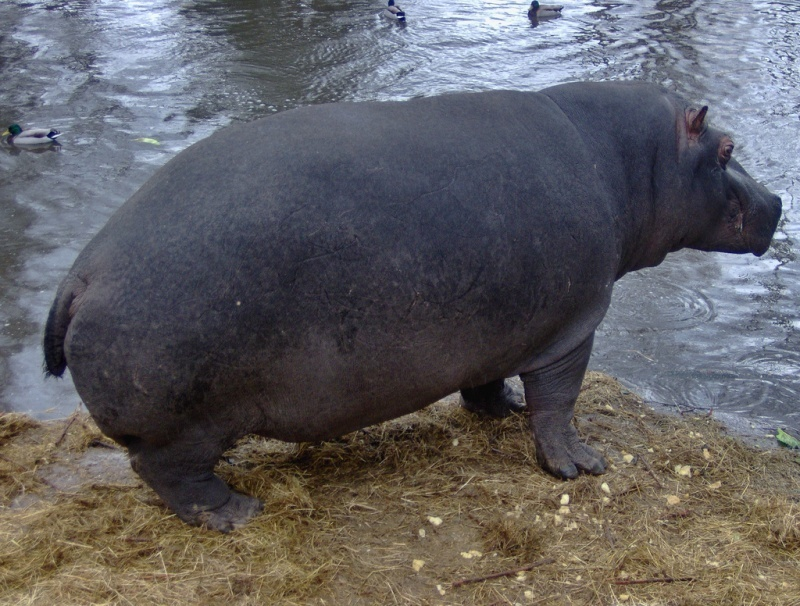hipopotamo: (37, 70, 783, 517)
